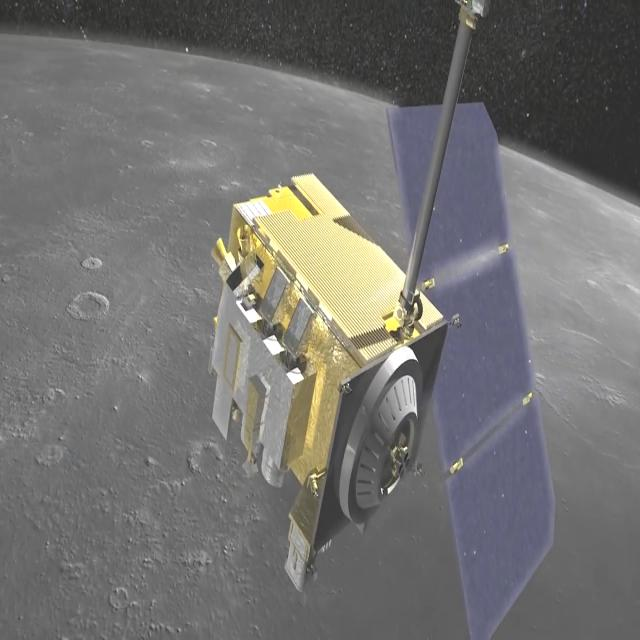medium_debris: (205, 0, 560, 640)
